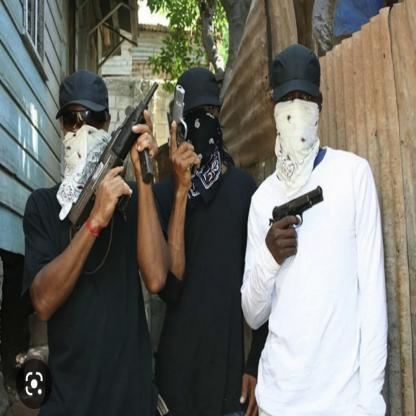criminal: (241, 44, 387, 416), (22, 71, 171, 416), (157, 68, 269, 416)
weapon: (68, 81, 159, 229), (165, 84, 199, 177), (267, 185, 325, 234)
